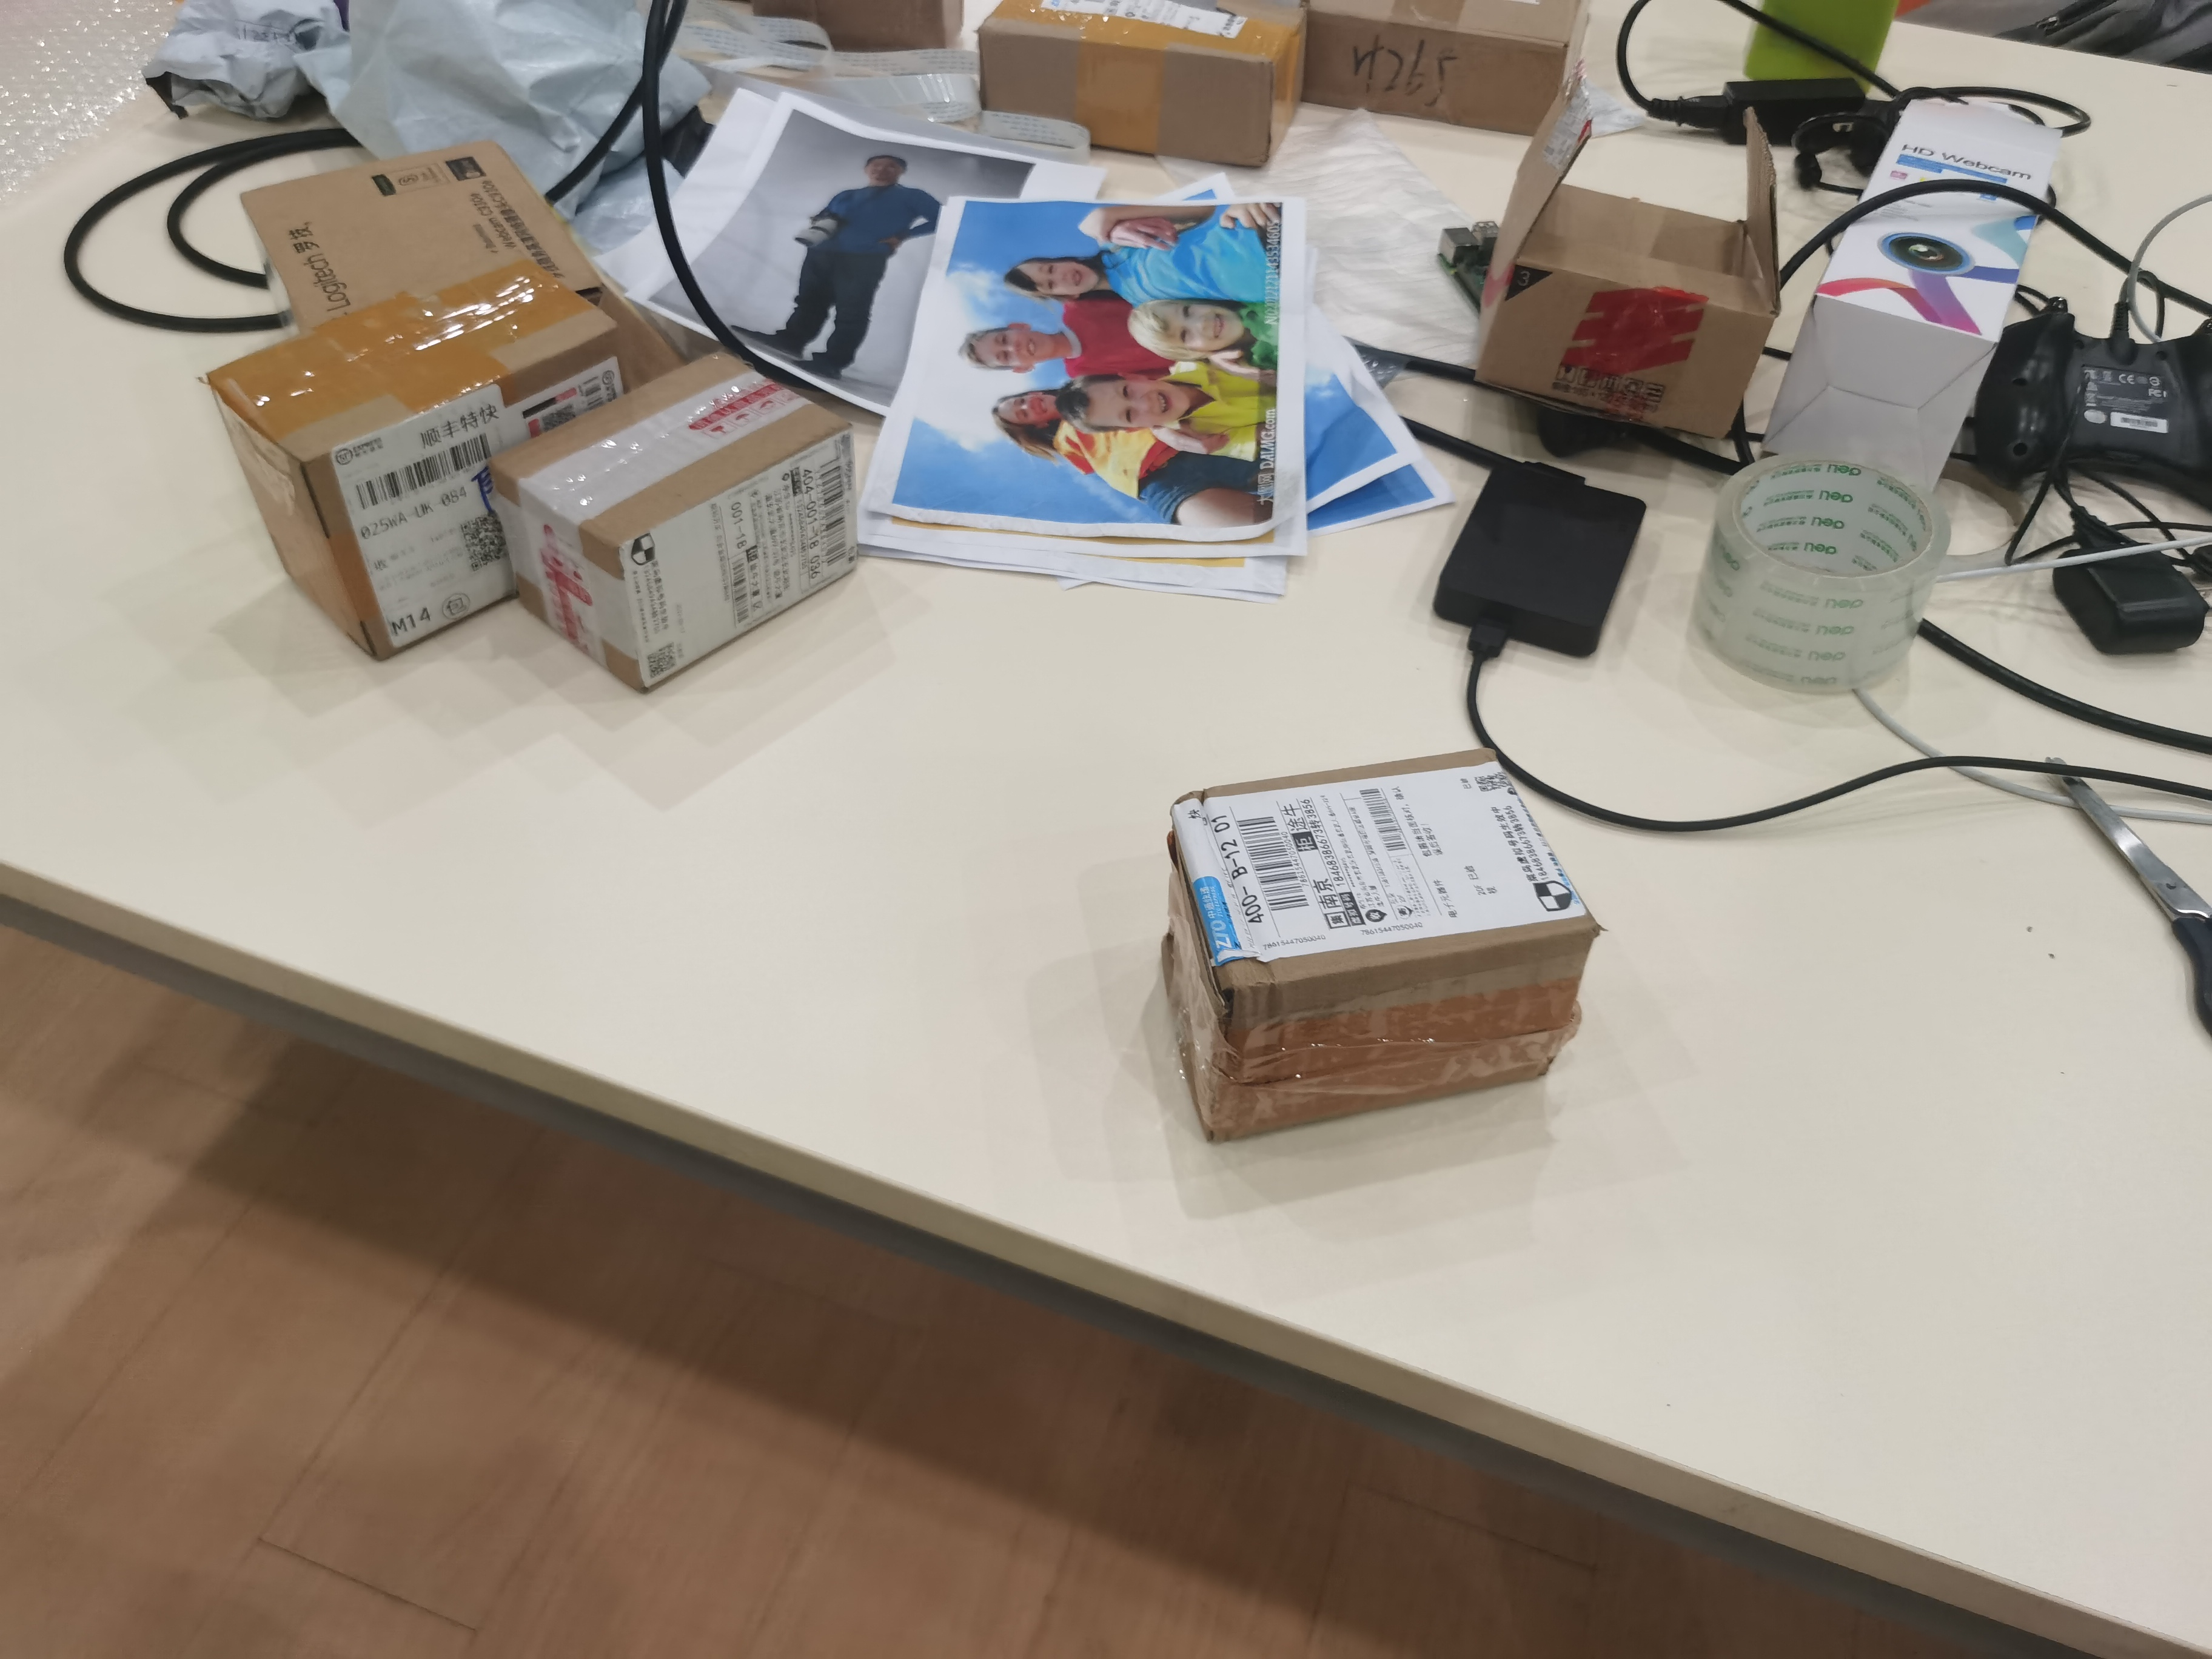box: (1125, 744, 1588, 1150), (200, 275, 629, 669), (496, 345, 876, 680), (1482, 110, 1780, 462), (206, 136, 646, 369), (956, 3, 1364, 176)
